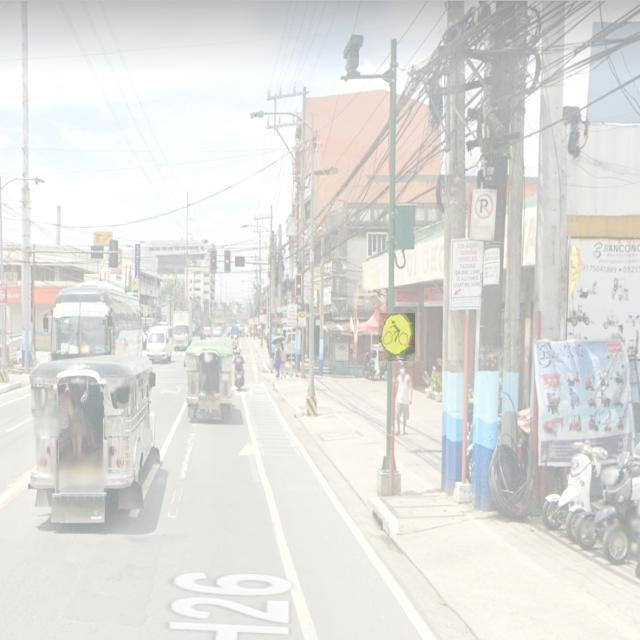bike lane: (379, 313, 415, 361)
